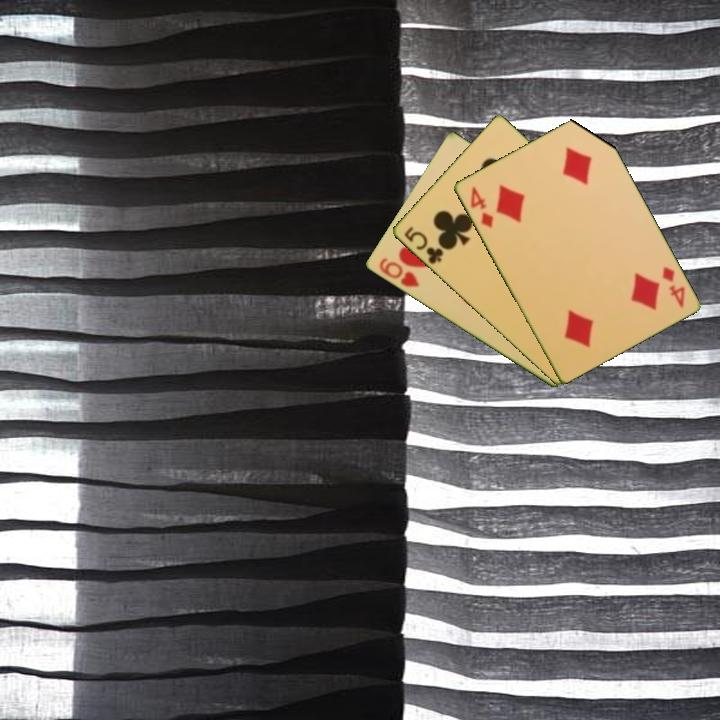4d: (466, 182, 496, 231), (658, 263, 688, 311)
5c: (400, 223, 446, 267)
6h: (375, 254, 422, 290)
